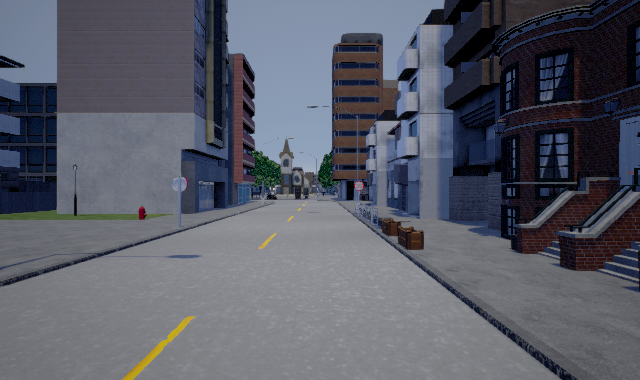traffic_sign: (354, 181, 364, 191)
